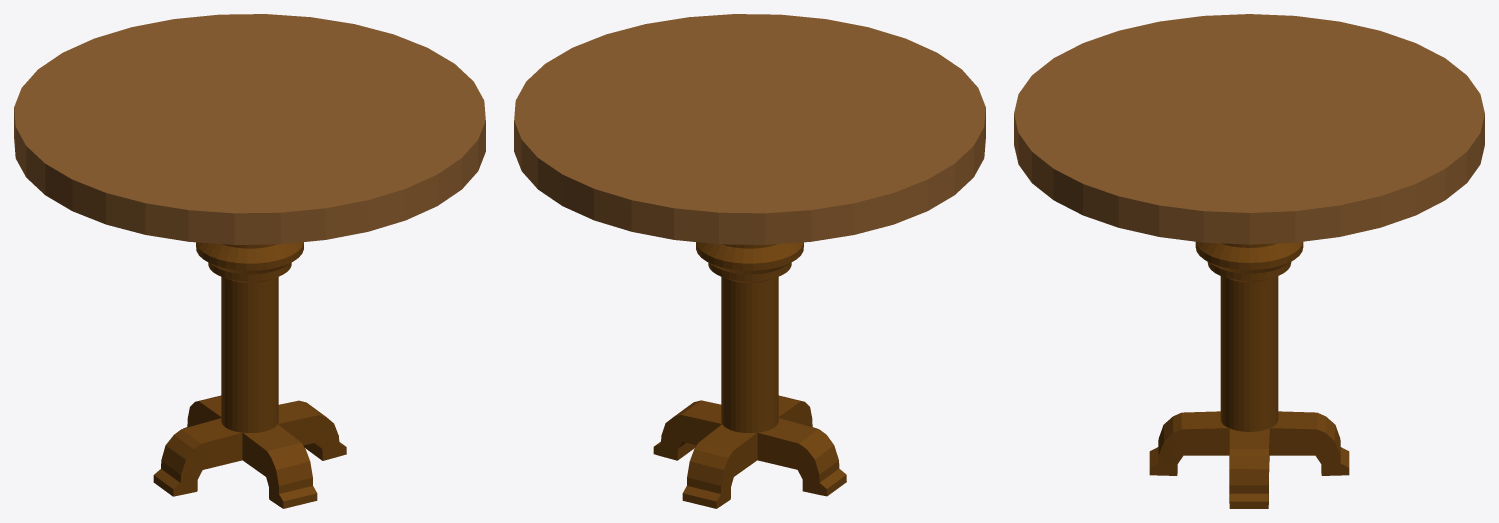
File: better_table.fbx
3 renders of one model, left to right at view 1: azimuth 30°, elevation 25°; view 2: azimuth 150°, elevation 25°; view 3: azimuth 270°, elevation 25°, orthographic.
Parts seen in each view (by area): view 1: tabletop, table leg; view 2: tabletop, table leg; view 3: tabletop, table leg.
Part boxes in pixels (x1=…): tabletop: x1=14, y1=14, x2=485, y2=244; table leg: x1=153, y1=242, x2=346, y2=508; tabletop: x1=514, y1=14, x2=985, y2=244; table leg: x1=653, y1=242, x2=846, y2=508; tabletop: x1=1014, y1=14, x2=1484, y2=244; table leg: x1=1149, y1=241, x2=1349, y2=508.
Size of the model in its own units: 433 by 359 by 433.
